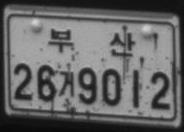0: (100, 67, 121, 106)
1: (126, 68, 145, 109)
2: (150, 70, 171, 110), (12, 61, 33, 100)
6: (35, 63, 56, 101)
9: (77, 66, 98, 104)
거: (57, 70, 74, 97)
부산_D: (47, 26, 136, 57)
